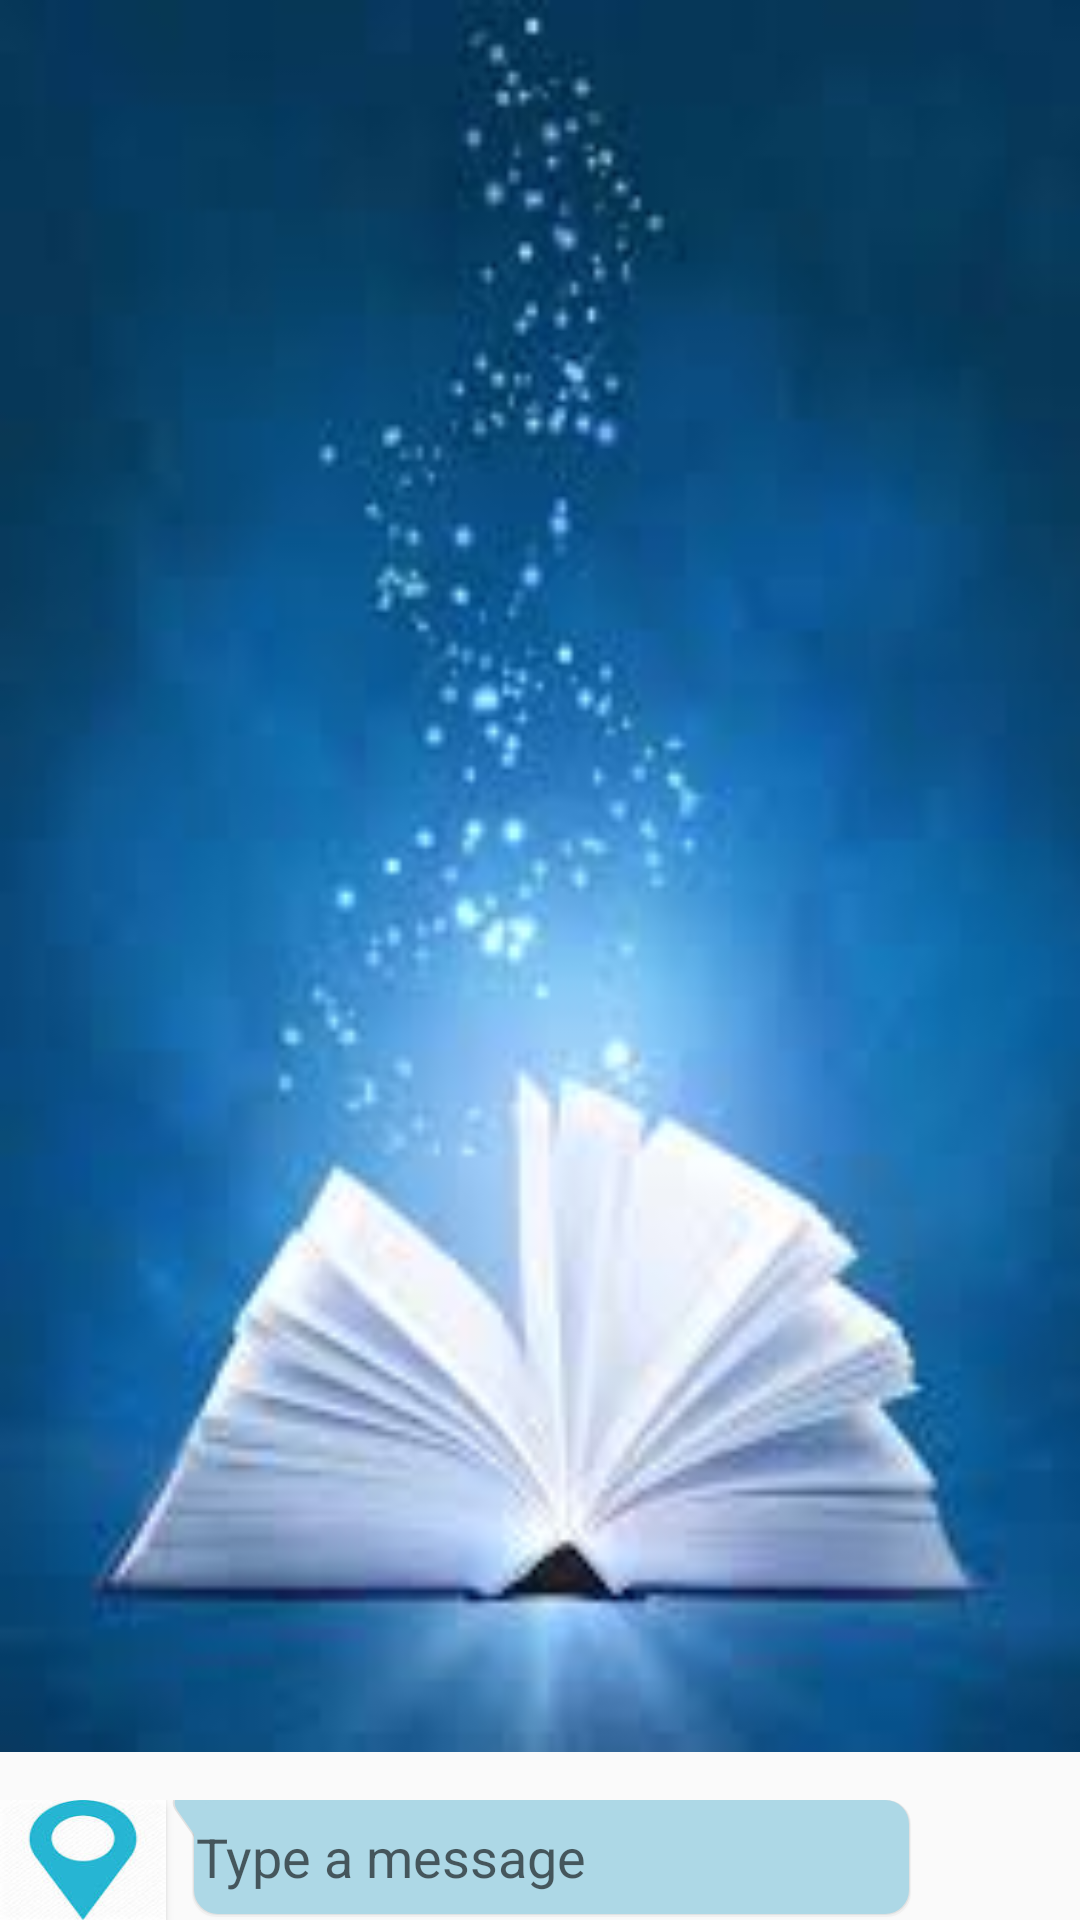

Where to tap for icons on this 1080w x 1920h app screen, as point (x, y):
loca: point (83, 1860)
